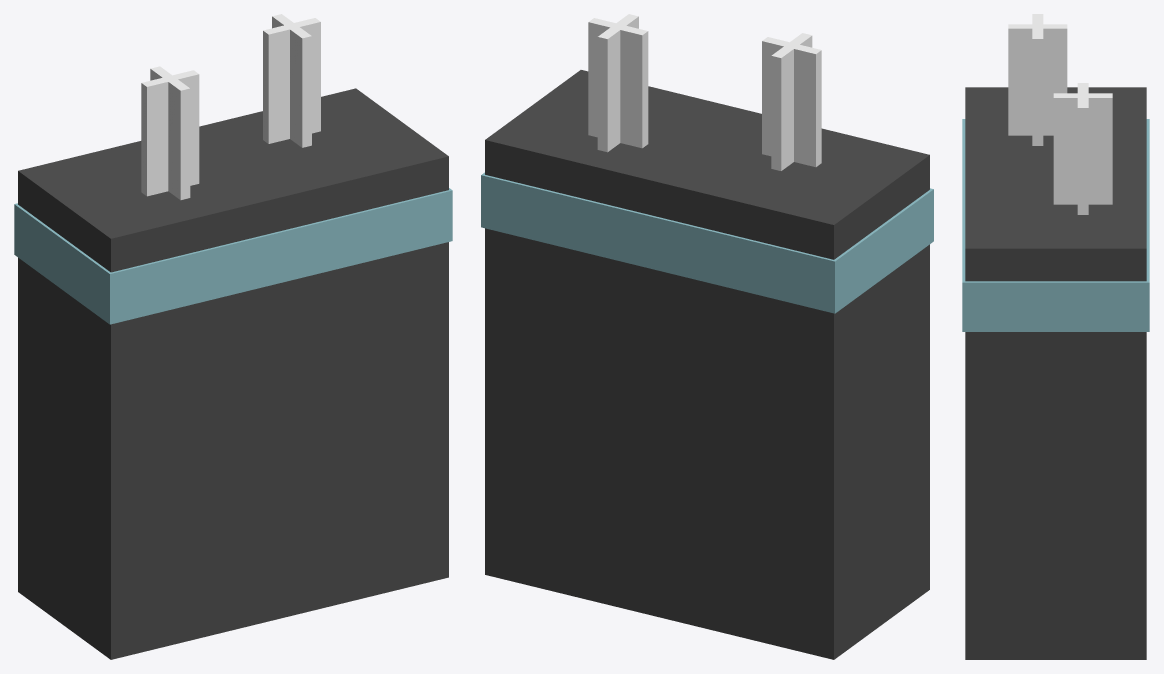
File: ce_ammo2_bolt_plasteel_b.obj
3 renders of one model, left to right at view 1: azimuth 30°, elevation 25°; view 2: azimuth 150°, elevation 25°; view 3: azimuth 270°, elevation 25°, orthographic. The views are drawn at different scales.
Visible parts, largest first — view 1: ce_ammo2_bolt_plasteel_b_0, ce_ammo2_bolt_plasteel_b_1, ce_ammo2_bolt_plasteel_b_2, ce_ammo2_bolt_plasteel_b_4, ce_ammo2_bolt_plasteel_b_3, ce_ammo2_bolt_plasteel_b_5; view 2: ce_ammo2_bolt_plasteel_b_0, ce_ammo2_bolt_plasteel_b_1, ce_ammo2_bolt_plasteel_b_4, ce_ammo2_bolt_plasteel_b_2, ce_ammo2_bolt_plasteel_b_5, ce_ammo2_bolt_plasteel_b_3; view 3: ce_ammo2_bolt_plasteel_b_0, ce_ammo2_bolt_plasteel_b_1, ce_ammo2_bolt_plasteel_b_5, ce_ammo2_bolt_plasteel_b_3, ce_ammo2_bolt_plasteel_b_2, ce_ammo2_bolt_plasteel_b_4.
Part boxes in pixels (x1,y1,x2,y2): ce_ammo2_bolt_plasteel_b_0: [18, 88, 448, 659]; ce_ammo2_bolt_plasteel_b_1: [14, 188, 452, 324]; ce_ammo2_bolt_plasteel_b_2: [141, 70, 199, 196]; ce_ammo2_bolt_plasteel_b_4: [263, 18, 320, 143]; ce_ammo2_bolt_plasteel_b_3: [150, 66, 190, 200]; ce_ammo2_bolt_plasteel_b_5: [272, 14, 311, 147]; ce_ammo2_bolt_plasteel_b_0: [485, 70, 929, 659]; ce_ammo2_bolt_plasteel_b_1: [481, 172, 933, 313]; ce_ammo2_bolt_plasteel_b_4: [588, 18, 648, 148]; ce_ammo2_bolt_plasteel_b_2: [762, 37, 821, 167]; ce_ammo2_bolt_plasteel_b_5: [597, 14, 638, 152]; ce_ammo2_bolt_plasteel_b_3: [771, 33, 812, 170]; ce_ammo2_bolt_plasteel_b_0: [965, 87, 1146, 659]; ce_ammo2_bolt_plasteel_b_1: [962, 119, 1149, 331]; ce_ammo2_bolt_plasteel_b_5: [1053, 93, 1112, 204]; ce_ammo2_bolt_plasteel_b_3: [1008, 24, 1067, 135]; ce_ammo2_bolt_plasteel_b_2: [1032, 14, 1043, 145]; ce_ammo2_bolt_plasteel_b_4: [1077, 83, 1088, 214].
Size of the model in its own units: 0.426 by 0.63 by 0.206.
